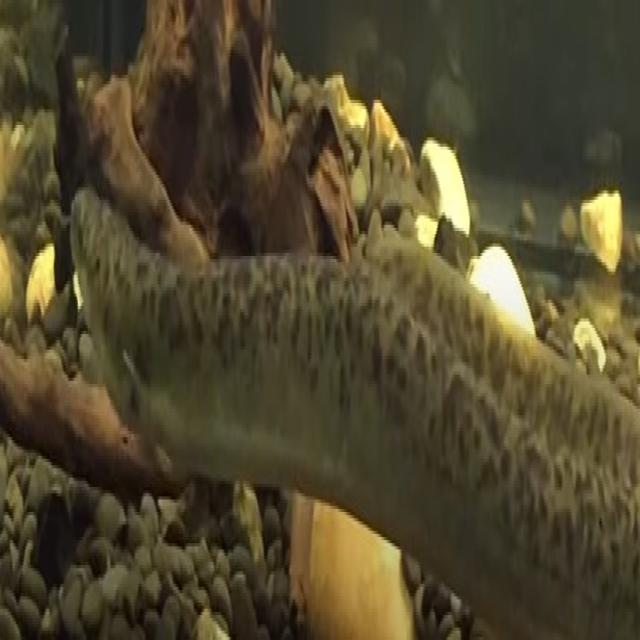Freshwater-Eel: (49, 112, 640, 637)
